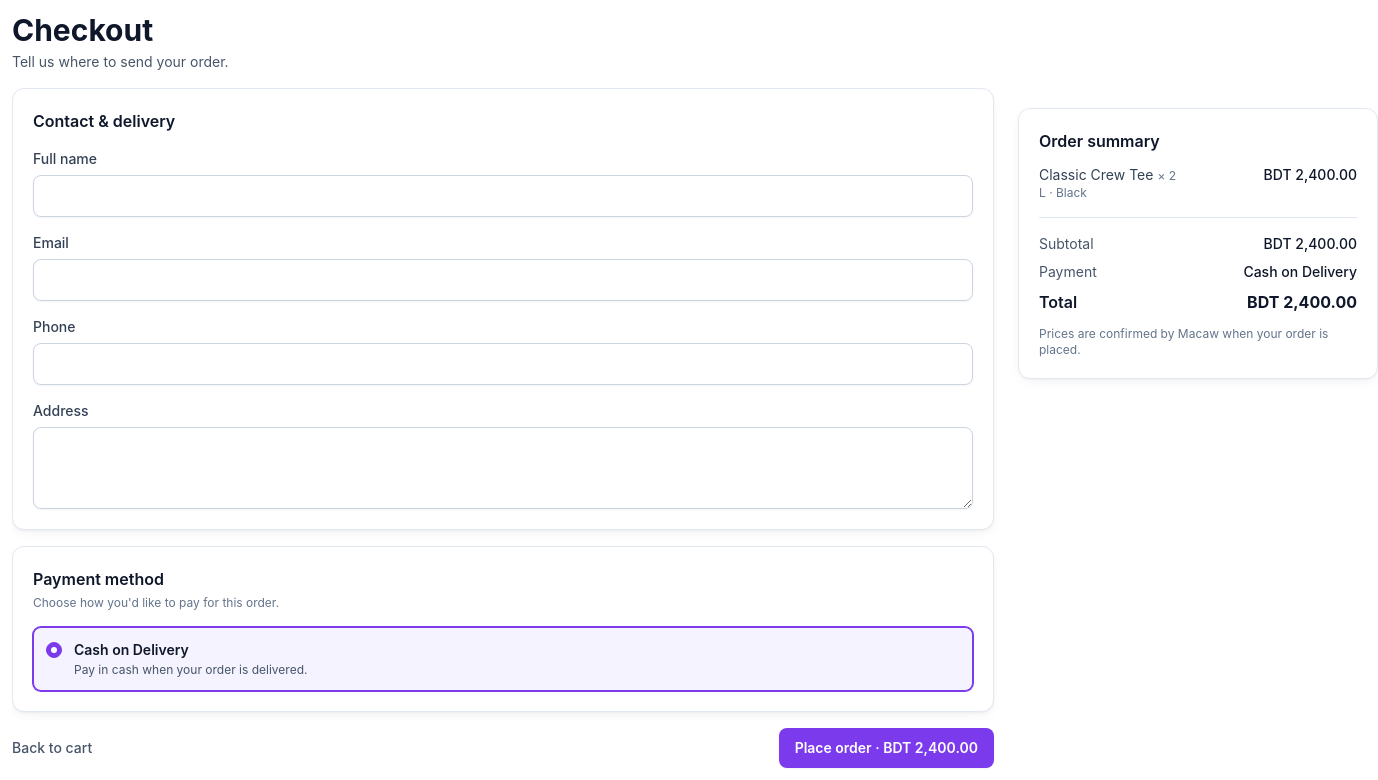
CheckoutPage — validation and submission › shows the confirmation page with order number and total
This screenshot has width=1378, height=780.
Type "Jane Doe" into the field labelled "Full name" at (503, 196), box left=33, top=175, right=973, bottom=217
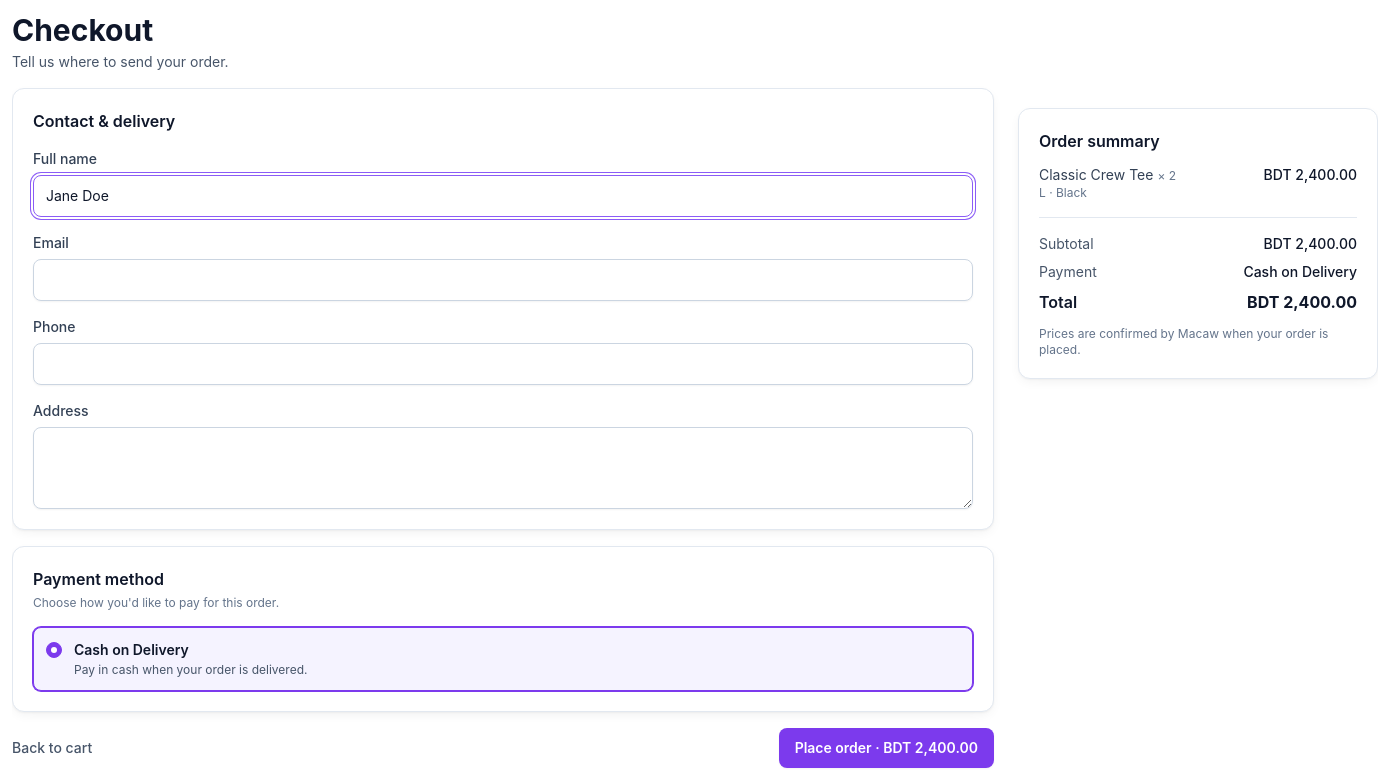
Type "jane@example.com" into the field labelled "Email" at (503, 280), box left=33, top=259, right=973, bottom=301
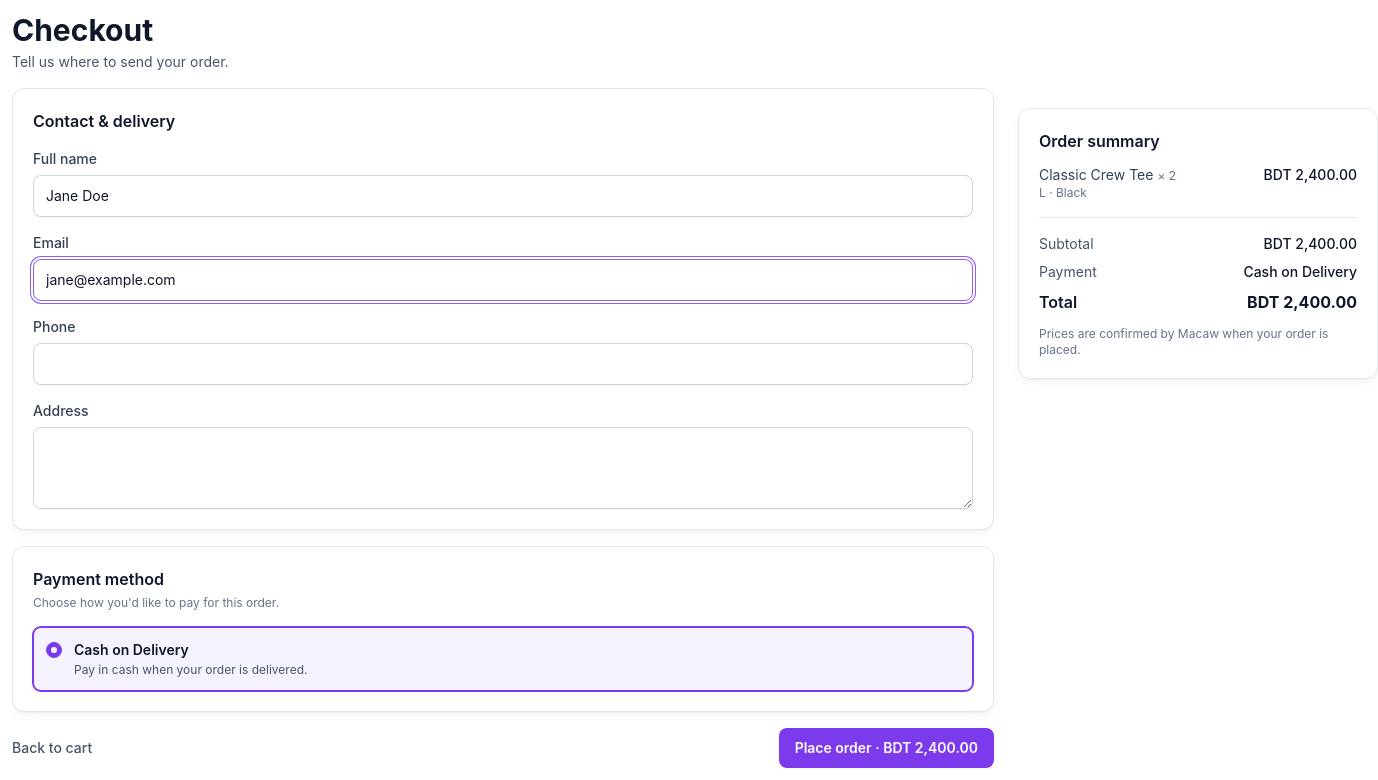
Type "+1 555 0000" into the field labelled "Phone" at (503, 364), box left=33, top=343, right=973, bottom=385
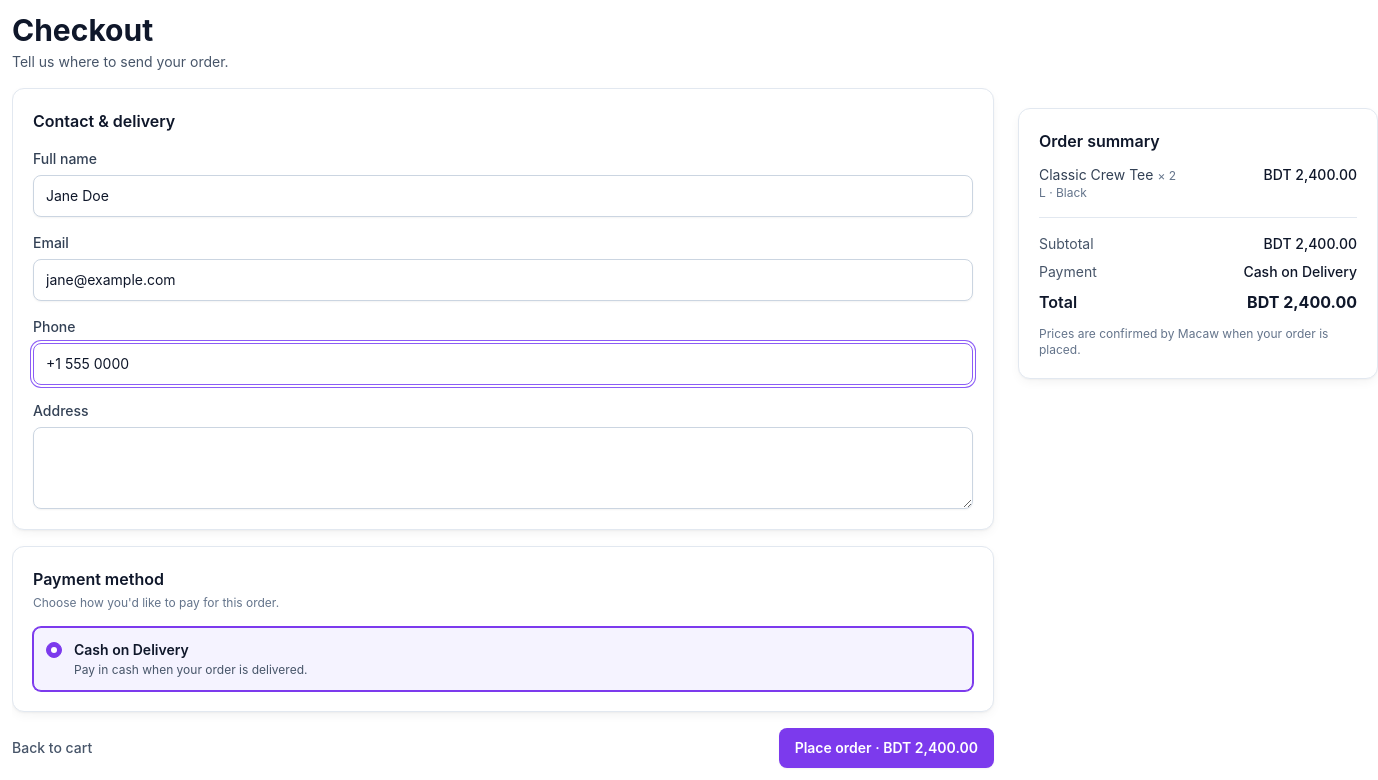
Type "1 Test Way" into the text box labelled "Address" at (503, 468), box left=33, top=427, right=973, bottom=509
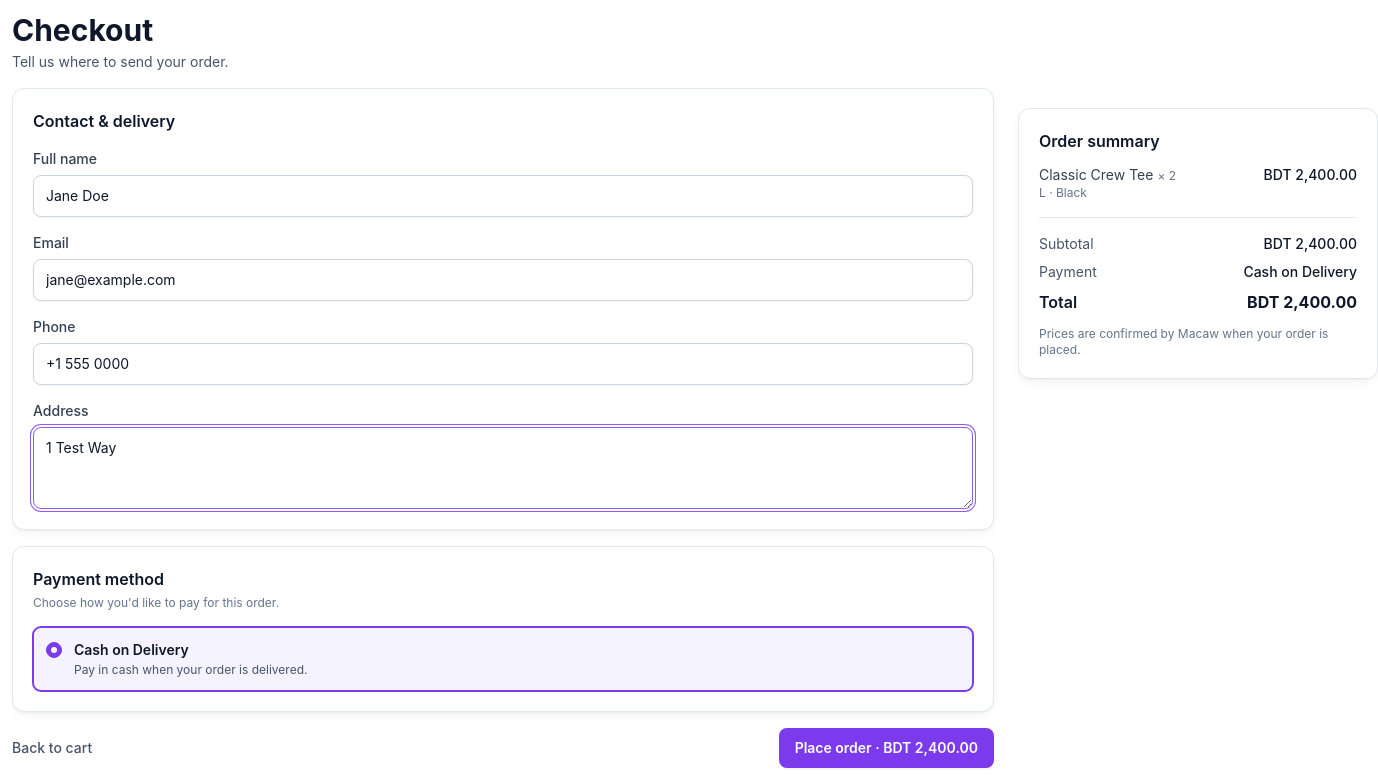
Click the button "Place order · BDT 2,400.00" at (886, 748), box left=779, top=728, right=994, bottom=768
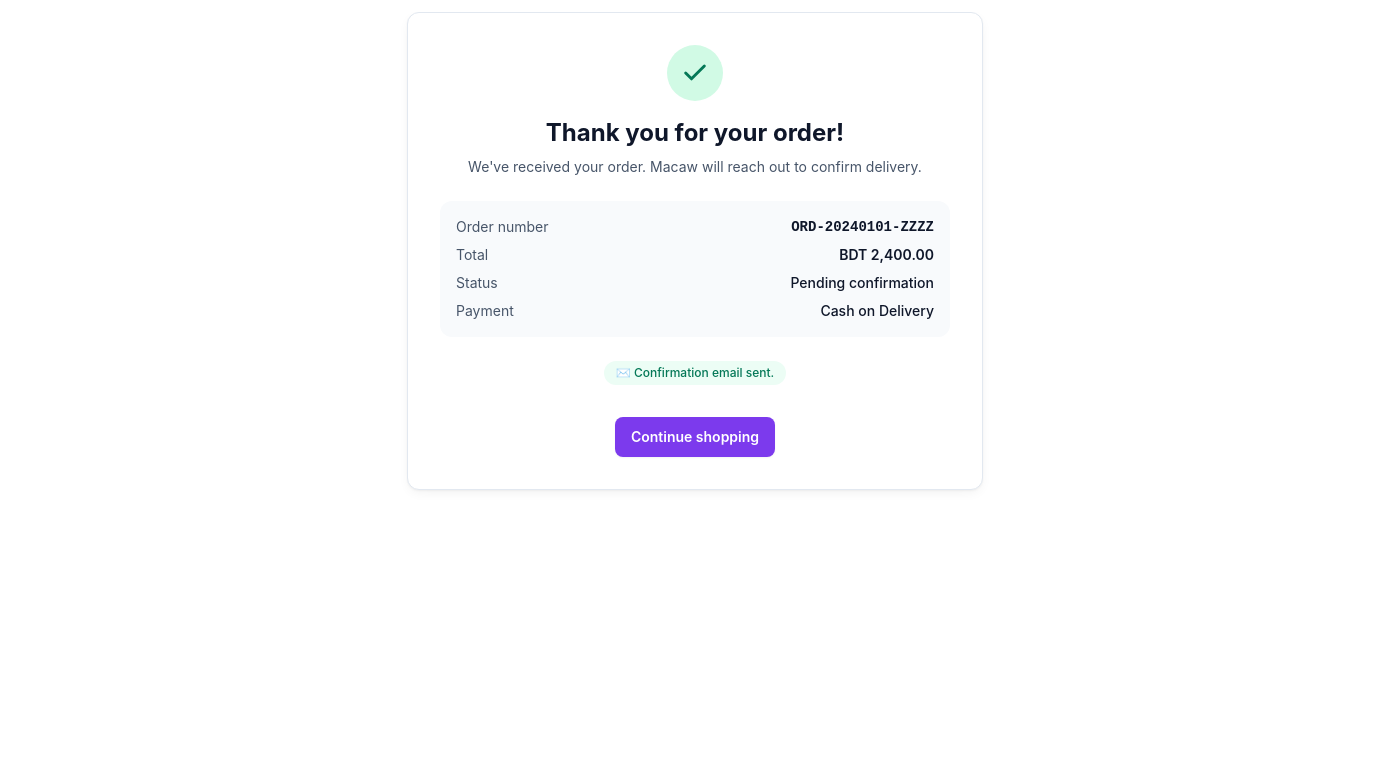
Expected: the heading "Thank you for your order!" is shown, left=546, top=118, right=844, bottom=147
Expected: the text "ORD-20240101-ZZZZ" is shown, left=791, top=217, right=934, bottom=237
Expected: the text "✉️ Confirmation email sent." is shown, left=604, top=361, right=786, bottom=385
